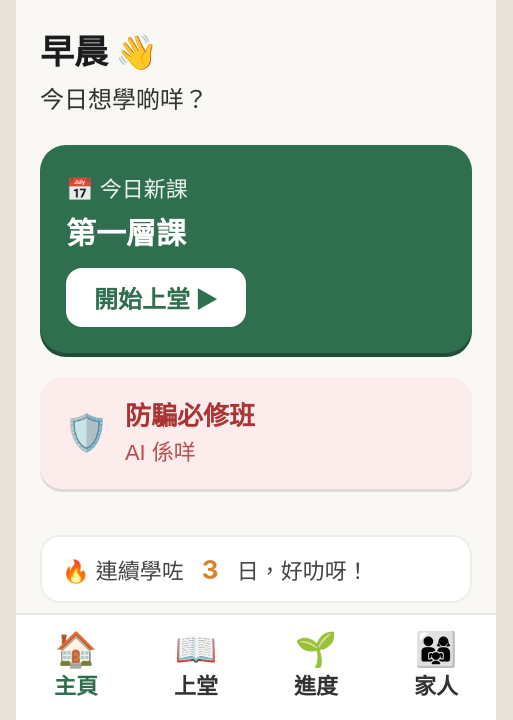
Test: App course engine (elder) › enables the always-unlocked anti-fraud button once that lesson exists
Click the button "🛡️ 防騙必修班 AI 係咩".
click(256, 433)  # box [40,377,472,490]
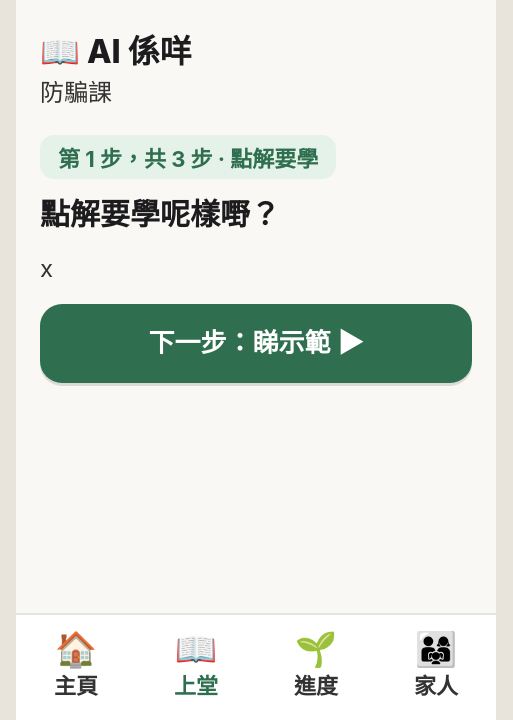
Now the heading "點解要學呢樣嘢？" is shown, box [40,196,280,232]
Now the text "防騙課" is shown, box [40,78,112,107]
